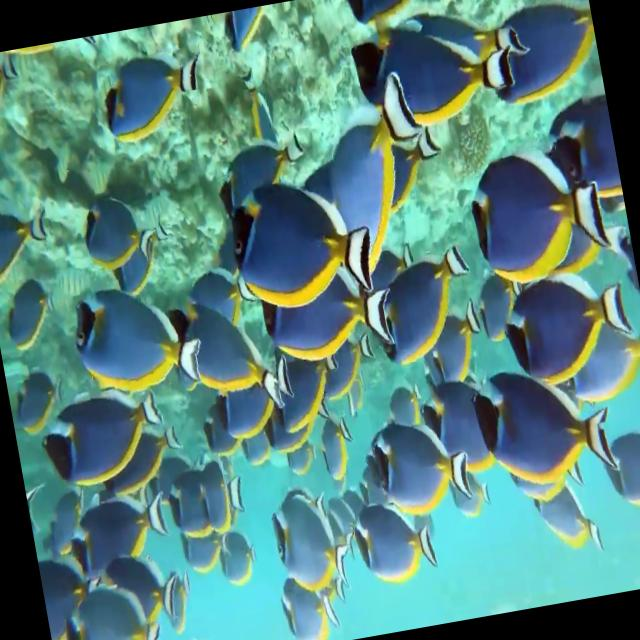fish: (301, 68, 444, 264), (219, 158, 380, 319), (466, 146, 612, 284), (56, 278, 204, 409), (478, 362, 622, 495), (353, 22, 517, 134), (358, 224, 482, 371), (496, 259, 636, 388), (158, 290, 286, 424), (467, 0, 604, 117), (44, 386, 176, 499), (260, 270, 400, 370), (364, 406, 472, 520), (98, 44, 205, 142), (266, 493, 356, 605), (350, 492, 440, 594), (49, 567, 173, 640), (74, 185, 164, 280), (565, 313, 640, 417), (521, 473, 606, 562), (191, 446, 254, 537), (0, 269, 63, 360), (0, 204, 55, 291), (208, 504, 262, 589), (276, 573, 343, 640), (154, 569, 200, 639), (603, 429, 640, 510)
